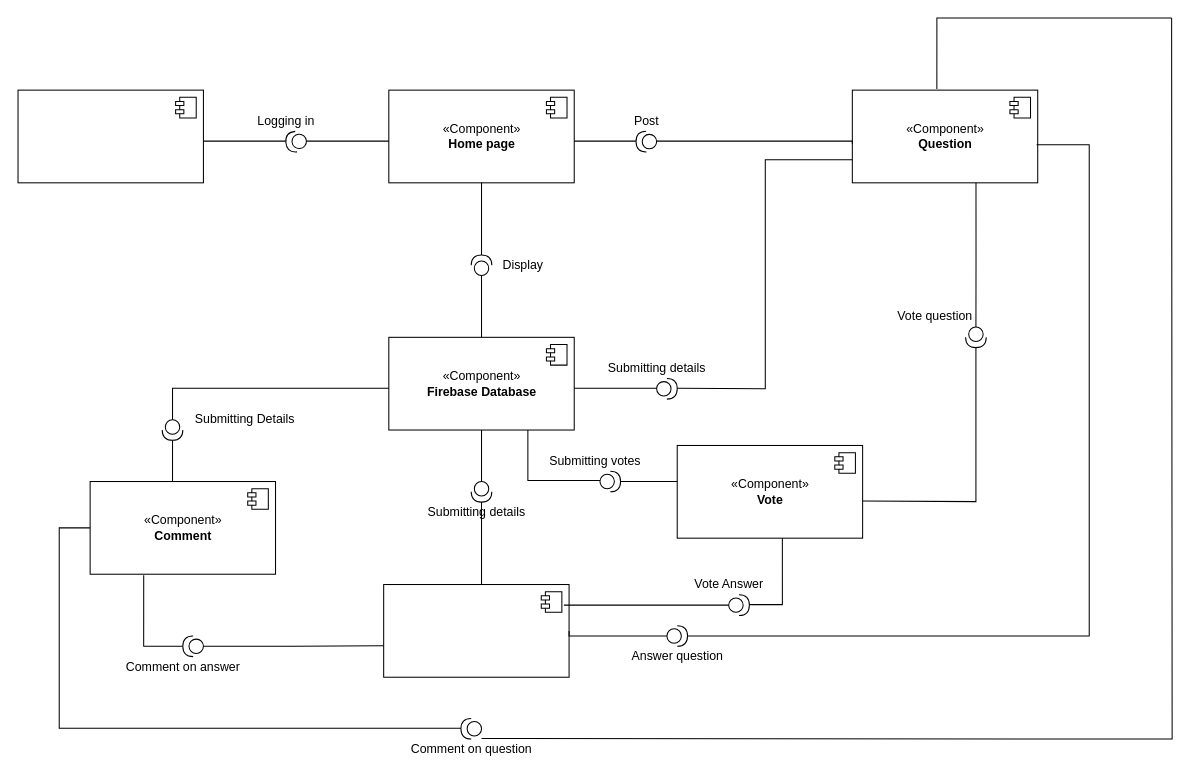
Some shapes in this 1192 by 778 pixel diagram are drawn without their labels. The shapes that lost their labels are listed below. From the top down, each one's centre as x and y in pixels, then its label:
At (x=110, y=136): "«Component» Wits Overflow App".
At (x=476, y=630): "«Component» Answer".
